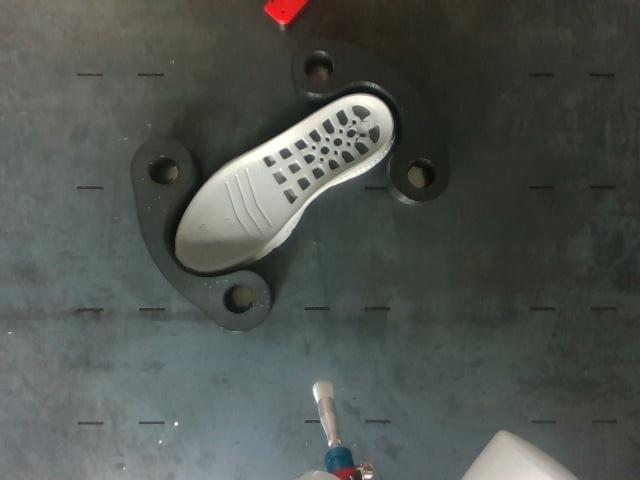shoes: (176, 96, 393, 271)
